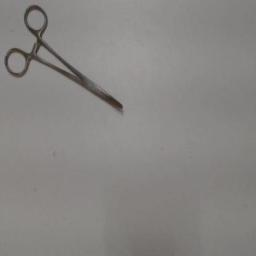Crile Artery Forceps: (2, 0, 128, 116)
